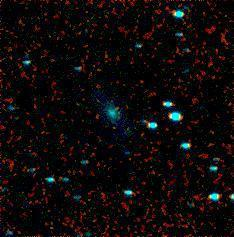star: (65, 87, 95, 117)
